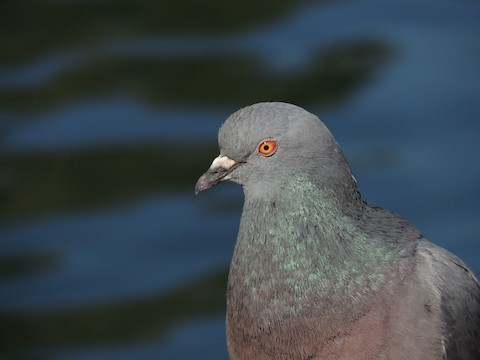pigeon: (190, 95, 463, 350)
